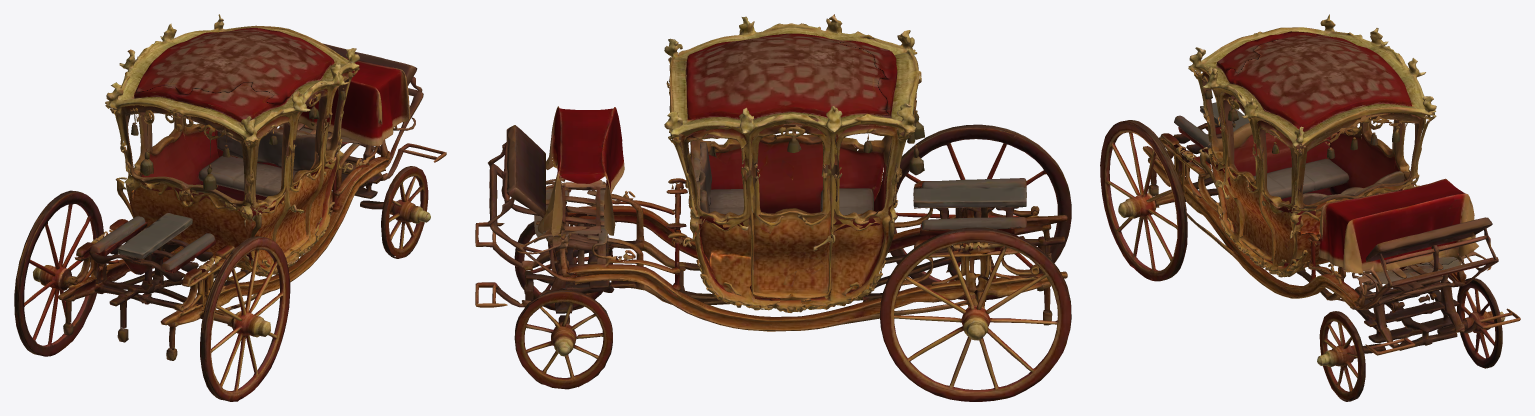
The model's file is kutsche.glb.
The picture shows the model from 3 angles, left to right: view 1: azimuth 30°, elevation 25°; view 2: azimuth 150°, elevation 25°; view 3: azimuth 270°, elevation 25°; orthographic projection. The views are drawn at different scales.
Parts seen in each view (by area): view 1: geometry_0; view 2: geometry_0; view 3: geometry_0.
Part boxes in pixels (box(x1,y1,x2,y2)): geometry_0: box(14, 14, 446, 401); geometry_0: box(475, 14, 1071, 401); geometry_0: box(1100, 14, 1520, 401).
Size of the model in its own units: 1 by 0.5207 by 0.7822.
Materials: 1 (1 with a texture image).
